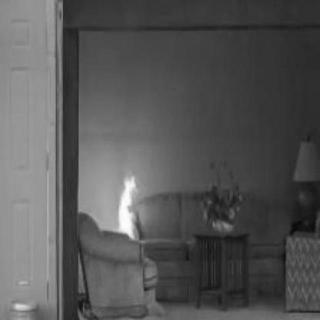Fire: (113, 174, 146, 240)
